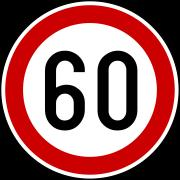Speed Limit -60-: (21, 25, 149, 150)
